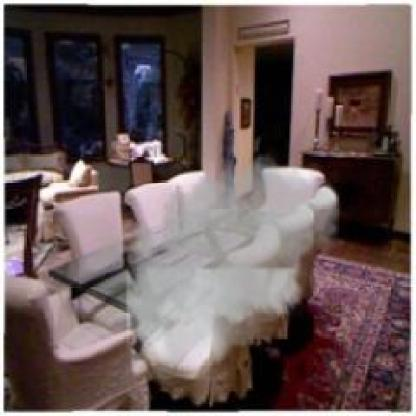Smoke: (119, 142, 396, 380)
